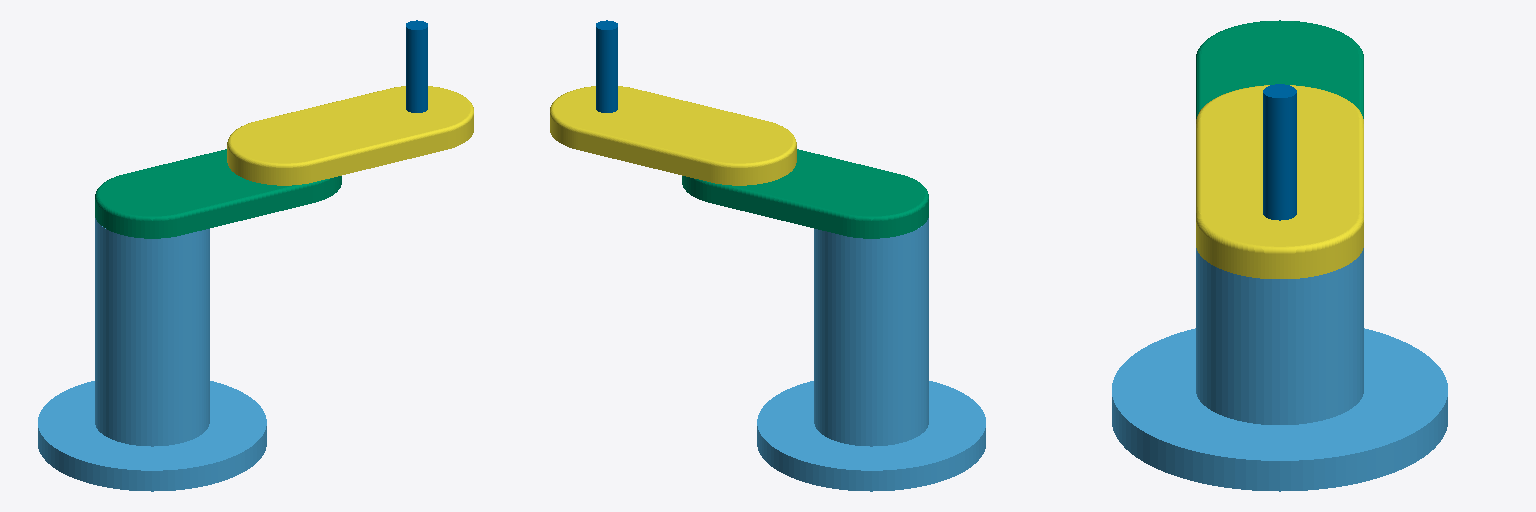
robot.urdf — scara:
<?xml version = "1.0"?>

<robot name = "scara" >
    <link name="world"/>

    <joint name="fixed" type="fixed">
        <parent link="world"/>
        <child link="base_link"/>
    </joint>

    <link name = "base_link">
        <visual>
            <geometry>
                <mesh filename = "package://scara_robot_description/meshes/base.stl" scale = "1 1 1"/>
            </geometry>
            <origin rpy = "0 0 0" xyz = "0 0 0"/>
        </visual>

        <collision>
            <geometry>
                <mesh filename = "package://scara_robot_description/meshes/base_low.stl" scale = "1 1 1"/>
            </geometry>
            <origin rpy = "0 0 0" xyz = "0 0 0"/>
        </collision>

        <inertial>
            <mass value = "20.03943414" />
            <inertia ixx = "0.27146021" ixy = "0" ixz = "0" iyy = "0.27146020" iyz = "0" izz = "0.10467025"/>
            <origin rpy = "0 0 0" xyz = "0 0 0.13285714" />
        </inertial>
    </link>

    <joint name = "base_link_link_01" type = "revolute" >
        <parent link = "base_link" />
        <child link = "link_01" />
        <origin rpy = "0 0 0" xyz = "0 0 0.33" />
        <axis xyz = "0 0 1" />
        <limit effort = "10" lower = "-3.14" upper = "3.14" velocity = "0.5" />
    </joint>

    <!--TRANSMISSION-->
    <transmission name = "base_link_brazo_trans">
        <type>transmission_interface/SimpleTransmission</type>
        <joint name="base_link_link_01">
            <hardwareInterface>hardware_interface/EffortJointInterface</hardwareInterface>
        </joint>
        <actuator name="base_link_link_01">
            <hardwareInterface>hardware_interface/EffortJointInterface</hardwareInterface>
            <mechanicalReduction>1</mechanicalReduction>
        </actuator>
    </transmission>

    <link name = "link_01">
        <visual>
            <geometry>
                <mesh filename = "package://scara_robot_description/meshes/brazo.stl" scale = "1 1 1"/>
            </geometry>
            <origin rpy = "0 0 0" xyz = "0 0 0"/>
        </visual>

        <collision>
            <geometry>
                <mesh filename = "package://scara_robot_description/meshes/brazo_low.stl" scale = "1 1 1"/>
            </geometry>
            <origin rpy = "0 0 0" xyz = "0 0 0"/>
        </collision>

        <inertial>
            <mass value = "3.84886936" />
            <inertia ixx = "0.00680632" ixy = "0" ixz = "0" iyy = "0.03365825" iyz = "0" izz = "0.03989022"/>
            <origin rpy = "0 0 0" xyz = "0.1 0 0.01495486" />
        </inertial>
    </link>

    <joint name = "link_01_link_02" type = "revolute" >
        <parent link = "link_01" />
        <child link = "link_02" />
        <origin rpy = "0 0 0" xyz = "0.2 0 0.03" />
        <axis xyz = "0 0 1" />
        <limit effort = "10" lower = "-3.14" upper = "3.14" velocity = "0.5" />
    </joint>

    <!--TRANSMISSION-->
    <transmission name = "link_01_brazo_2_trans">
        <type>transmission_interface/SimpleTransmission</type>
        <joint name="link_01_link_02">
            <hardwareInterface>hardware_interface/EffortJointInterface</hardwareInterface>
        </joint>
        <actuator name="link_01_link_02">
            <hardwareInterface>hardware_interface/EffortJointInterface</hardwareInterface>
            <mechanicalReduction>1</mechanicalReduction>
        </actuator>
    </transmission>

    <link name = "link_02">
        <visual>
            <geometry>
                <mesh filename = "package://scara_robot_description/meshes/brazo_2.stl" scale = "1 1 1"/>
            </geometry>
            <origin rpy = "0 0 0" xyz = "0 0 0"/>
        </visual>

        <collision>
            <geometry>
                <mesh filename = "package://scara_robot_description/meshes/brazo_low_2.stl" scale = "1 1 1"/>
            </geometry>
            <origin rpy = "0 0 0" xyz = "0 0 0"/>
        </collision>

        <inertial>
            <mass value = "3.84886936" />
            <inertia ixx = "0.00680632" ixy = "0" ixz = "0" iyy = "0.03365825" iyz = "0" izz = "0.03989022"/>
            <origin rpy = "0 0 0" xyz = "0.1 0 0.01495486" />
        </inertial>
    </link>

    <joint name = "link_02_link_03" type = "prismatic" >
        <parent link = "link_02"/>
        <child link = "link_03"/>
        <origin rpy = "0 0 0" xyz = "0.2 0 0.0" />
        <axis xyz = "0 0 1"/>
        <limit effort = "100" lower = "-0.15" upper = "0.0" velocity = "0.5" />
    </joint>

    <!--TRANSMISSION-->
    <transmission name = "link_02_link_03_trans">
        <type>transmission_interface/SimpleTransmission</type>
        <joint name="link_02_link_03">
            <hardwareInterface>hardware_interface/EffortJointInterface</hardwareInterface>
        </joint>
        <actuator name="link_02_link_03">
            <hardwareInterface>hardware_interface/EffortJointInterface</hardwareInterface>
            <mechanicalReduction>1</mechanicalReduction>
        </actuator>
    </transmission>

    <link name = "link_03">
        <visual>
            <geometry>
                <mesh filename = "package://scara_robot_description/meshes/lineal.stl" scale = "1 1 1"/>
            </geometry>
            <origin rpy = "0 0 0" xyz = "0 0 0"/>
        </visual>

        <collision>
            <geometry>
                <mesh filename = "package://scara_robot_description/meshes/lineal.stl" scale = "1 1 1"/>
            </geometry>
            <origin rpy = "0 0 0" xyz = "0 0 0"/>
        </collision>

        <inertial>
            <mass value = "0.106"/>
            <inertia ixx = "0.00020477" ixy = "0.0" ixz = "0.0" iyy = "0.00020477" iyz = "0.0" izz = "0.00001193"/>
            <origin rpy = "0 0 0" xyz = "0 0 0.075"/>
        </inertial>
    </link>

    <gazebo>
        <plugin name = "gazebo_ros_control" filename = "libgazebo_ros_control.so">
            <robotNamespace>/scara</robotNamespace>
        </plugin>
    </gazebo>
</robot>

--- Render facts (derived) ---
Views: 3 orthographic renders of the robot side by side, from view 1: azimuth 30°, elevation 25°; view 2: azimuth 150°, elevation 25°; view 3: azimuth 270°, elevation 25°.
Model scara with 5 links and 4 joints (2 revolute, 1 prismatic, 1 fixed), rooted at world, posed all joints at 0.
Visible links, largest first — view 1: base_link, link_02, link_01, link_03; view 2: base_link, link_02, link_01, link_03; view 3: base_link, link_02, link_01, link_03.
Boxes of the visible links, x1,y1,x2,y2 form: base_link: (38,218,266,491); link_02: (227,86,473,185); link_01: (95,149,341,238); link_03: (406,20,427,112); base_link: (757,218,985,491); link_02: (550,86,796,185); link_01: (682,149,928,238); link_03: (596,20,617,112); base_link: (1112,248,1447,491); link_02: (1196,85,1363,278); link_01: (1196,20,1363,118); link_03: (1263,84,1296,220).
Bounding box of the posed robot: 0.6249 × 0.3 × 0.51 m (x, y, z).
Meshes: 4 distinct files referenced, 4 mesh visuals loaded (4 binary STL).